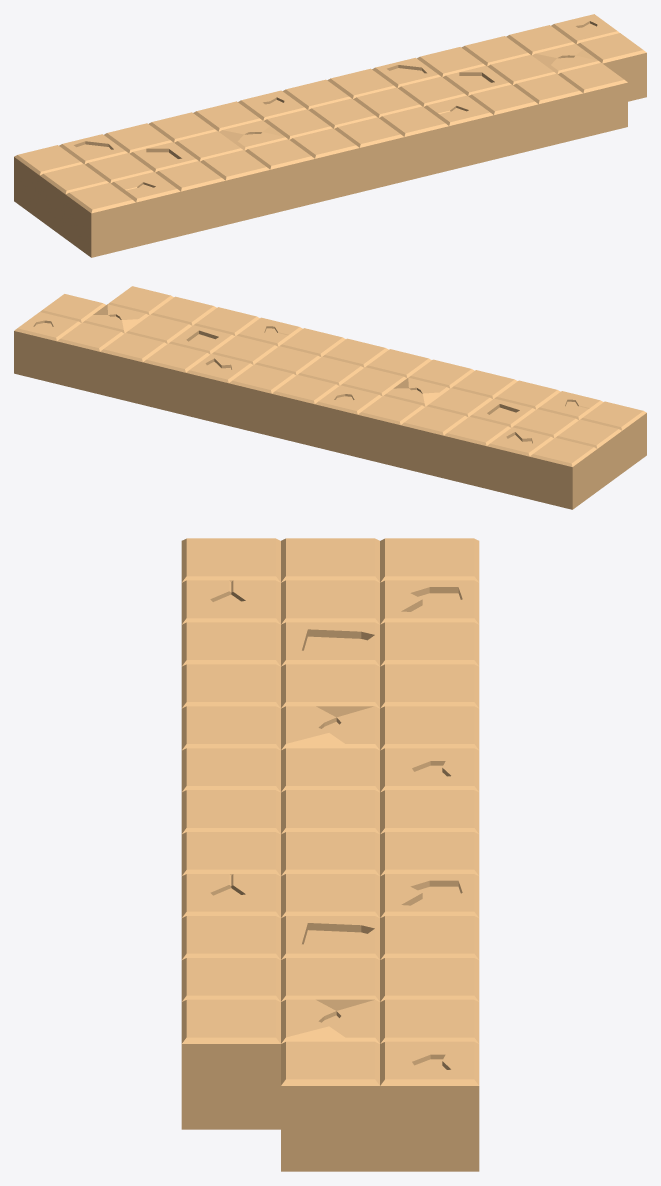
File: 13x3 Floor.fbx
3 renders of one model, top to bottom at view 1: azimuth 30°, elevation 25°; view 2: azimuth 150°, elevation 25°; view 3: azimuth 270°, elevation 25°, orthographic. The views are drawn at different scales.
Visible parts, largest first — view 1: Cube; view 2: Cube; view 3: Cube.
Part boxes in pixels (x1,y1,x2,y2): Cube: (14, 14, 646, 257); Cube: (14, 286, 646, 509); Cube: (181, 538, 479, 1171).
Bounding box in the file's own units: 1300 × 100 × 300.
